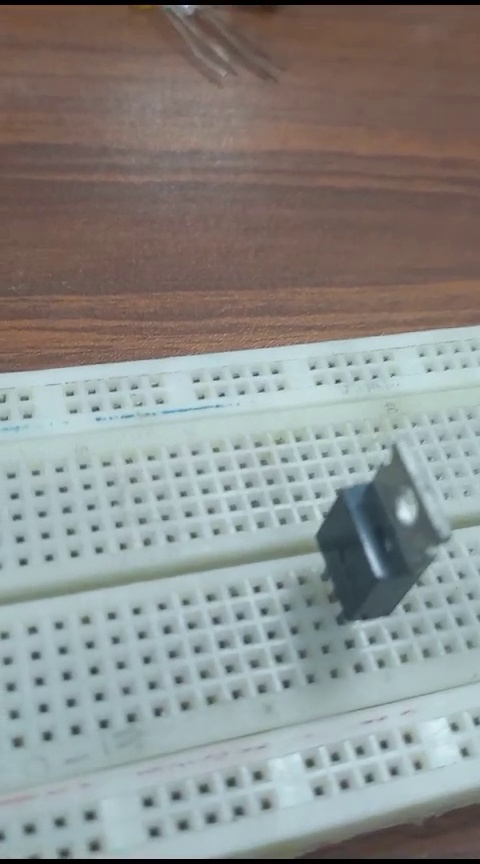voltage regulator: (305, 443, 449, 632)
